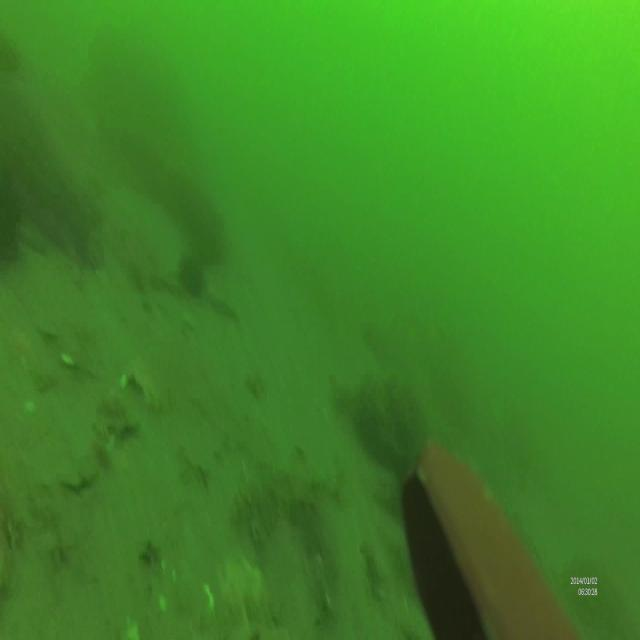echinus: (178, 249, 206, 302)
